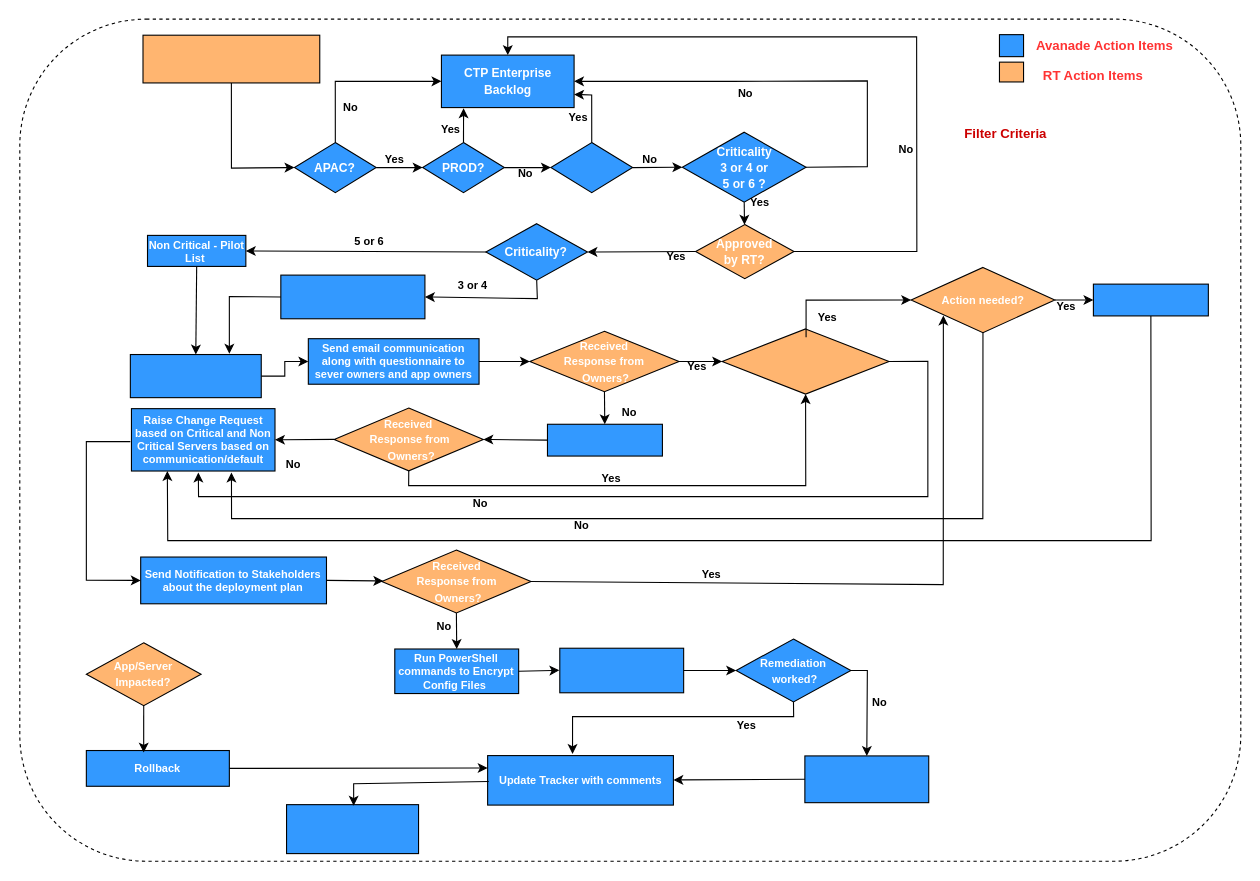
This 1260x881 diagram has some shape labels left out. The centre of each missing label's shape, as x and y in pixels:
"Critical - Pilot List" belongs at (352,296).
"CTP Server Backlog provided by RT" belongs at (231,58).
"Group servers according to server owners" belongs at (195,375).
"Implement Action" belongs at (1150,299).
"Mark Exception" belongs at (866,779).
"Notify Stakeholders" belongs at (352,829).
"PCN?" belongs at (591,167).
"Run PowerShell commands to Query Config Files" belongs at (621,670).
"Send Reminder" belongs at (604,439).
"Workshop/Discussions Required?" belongs at (805,361).
